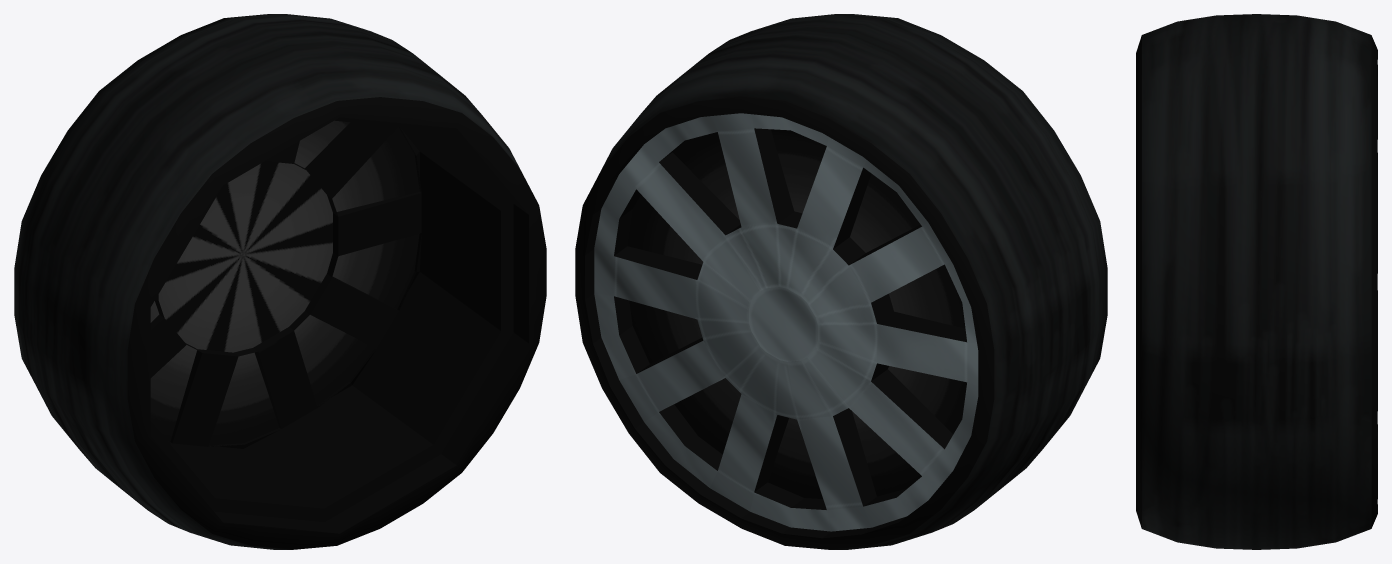
Rendered from RR_Wheel.fbx.
3 views of the same model, side by side, from view 1: azimuth 30°, elevation 25°; view 2: azimuth 150°, elevation 25°; view 3: azimuth 270°, elevation 25° (orthographic).
Parts seen in each view (by area): view 1: BackRightWheel; view 2: BackRightWheel; view 3: BackRightWheel.
Boxes of the visible parts, x1,y1,x2,y2 form: BackRightWheel: (14,14,546,549); BackRightWheel: (575,14,1107,549); BackRightWheel: (1136,14,1377,549).
Size of the model in its own units: 66.15 by 68.94 by 30.71.
